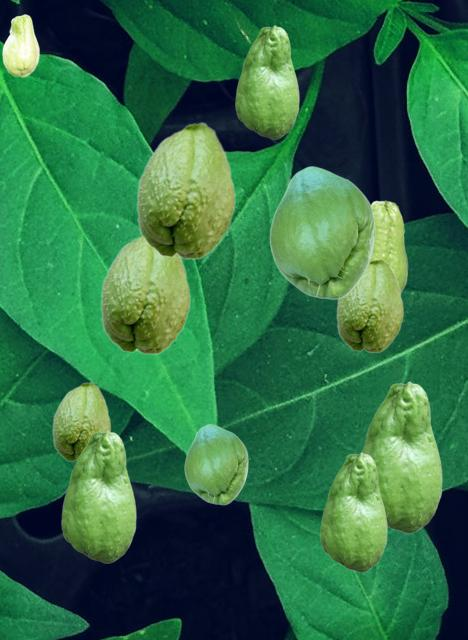sayote: (269, 166, 374, 299), (136, 121, 235, 259), (361, 381, 441, 532), (100, 236, 190, 354), (61, 430, 135, 562), (320, 452, 386, 571), (235, 25, 298, 138), (336, 258, 403, 352), (184, 424, 247, 504), (52, 381, 110, 462), (371, 200, 407, 291), (2, 14, 38, 76)
